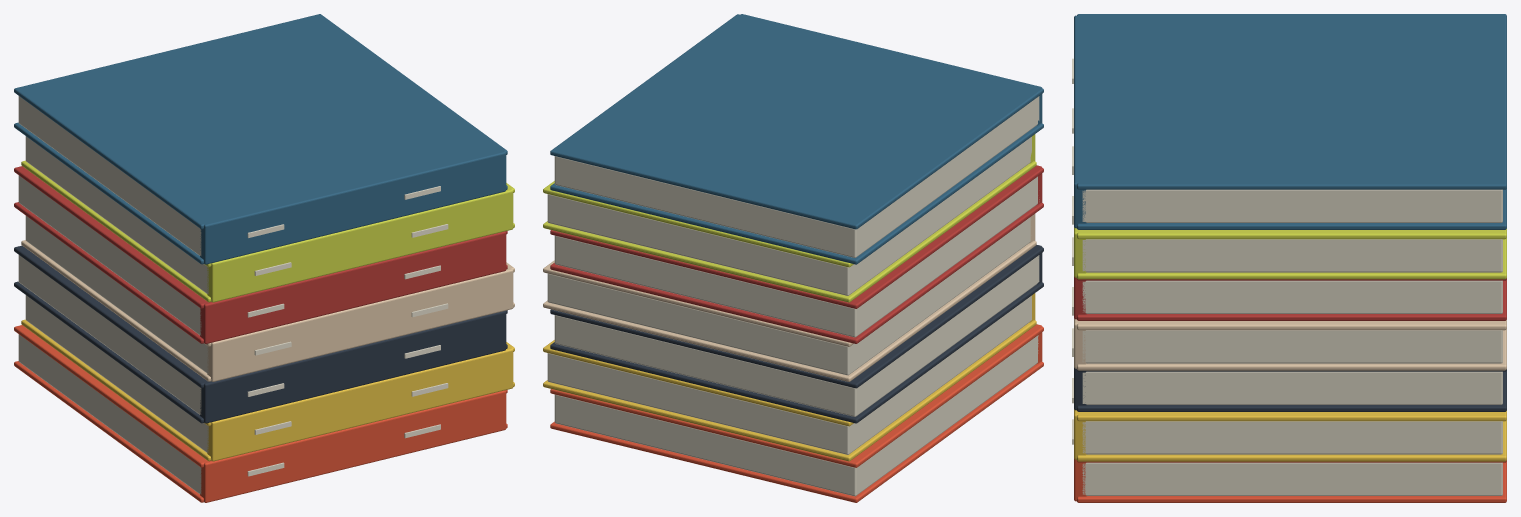
The model's file is book-stack-colour.glb.
3 views of the same model, side by side, from view 1: azimuth 30°, elevation 25°; view 2: azimuth 150°, elevation 25°; view 3: azimuth 270°, elevation 25° (orthographic). The views are drawn at different scales.
Visible parts, largest first — view 1: book-stack-colour; view 2: book-stack-colour; view 3: book-stack-colour.
Part boxes in pixels (box(x1,y1,x2,y2)): book-stack-colour: box(14, 14, 514, 502); book-stack-colour: box(543, 14, 1043, 502); book-stack-colour: box(1072, 14, 1506, 502).
Bounding box in the file's own units: 0.22 × 0.1859 × 0.23.
